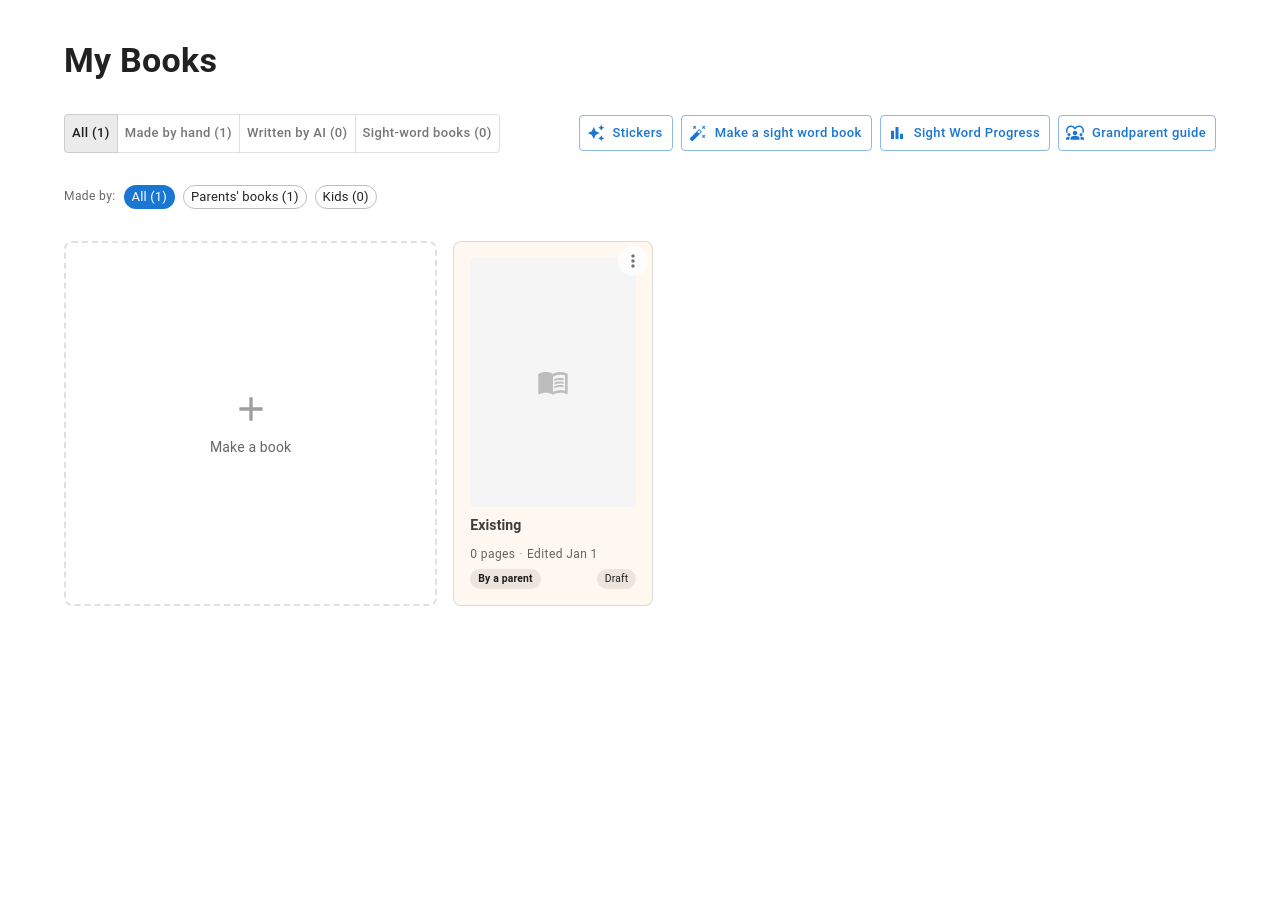
Test: the one "Make a book" door — both audiences see two choices › shows the parent wording to a parent
Step 1. Click the element with test id "new-book-tile" → (251, 423), box [64,241,437,606]
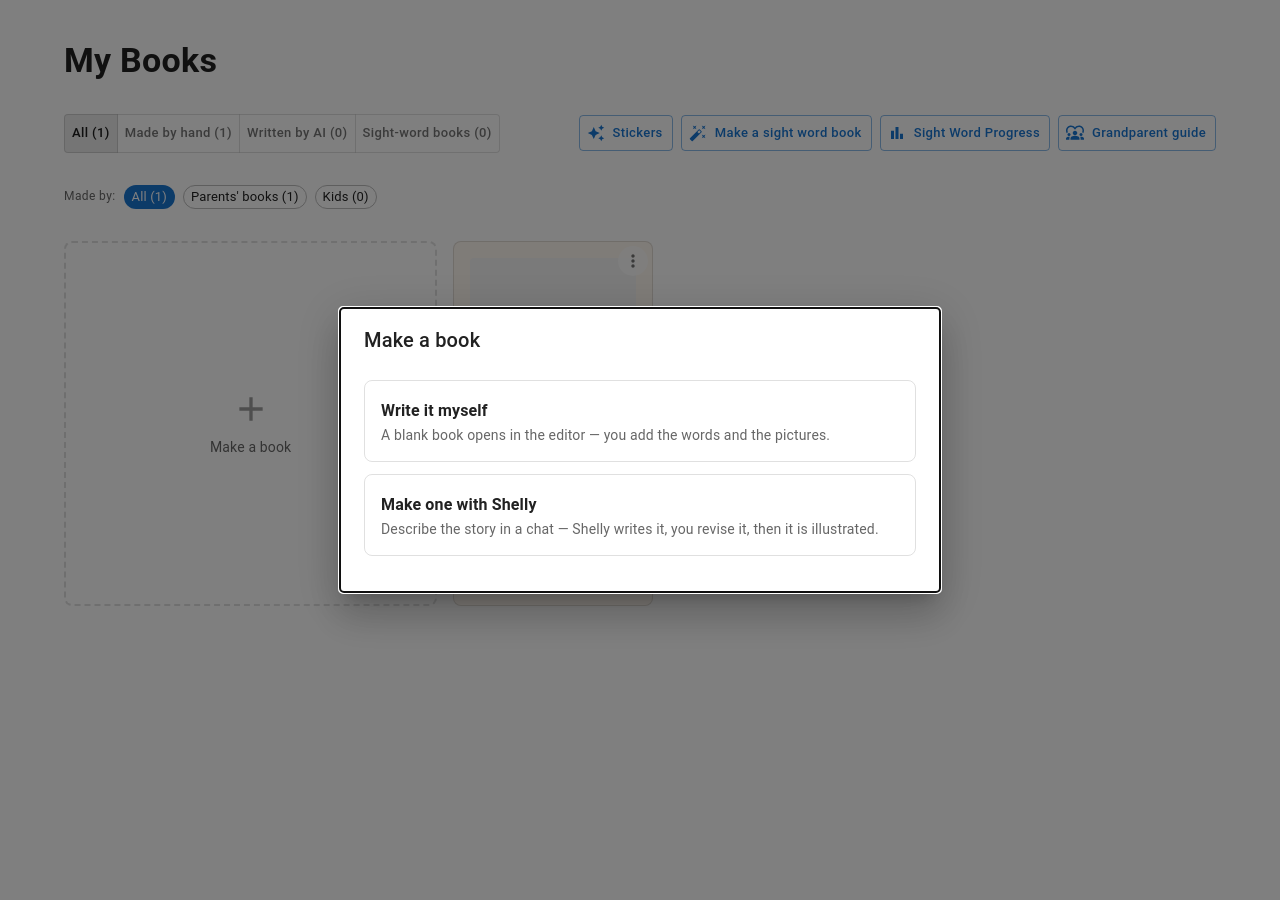
Check: the heading "Write it myself" is shown, box [381,401,488,420]
Check: the text "A blank book opens in the editor — you add the words and the pictures." is shown, box [381,425,899,445]
Check: the heading "Make one with Shelly" is shown, box [381,495,537,514]
